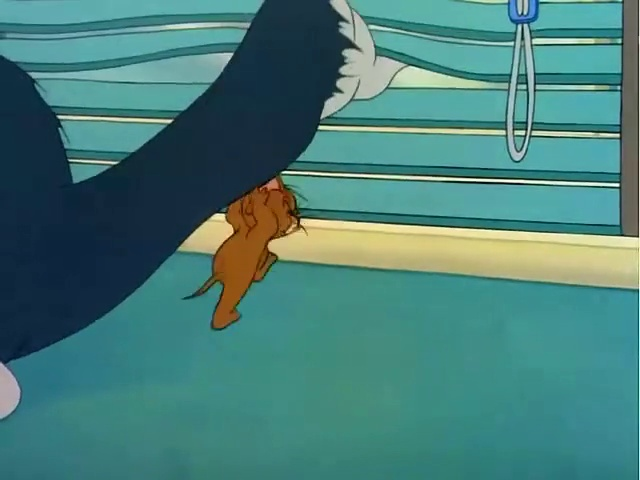jerry: (201, 167, 335, 362)
